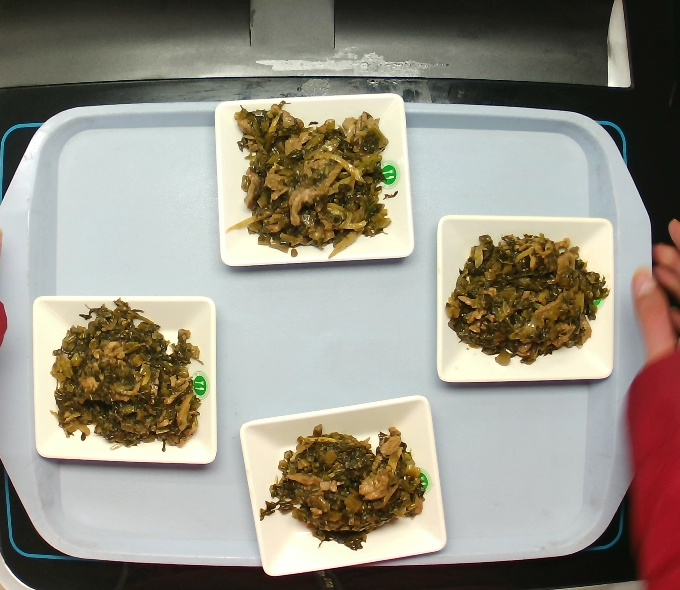wcq-XueCaiRouSi: (222, 94, 400, 260), (444, 223, 607, 371), (50, 301, 206, 446), (267, 422, 424, 553)
